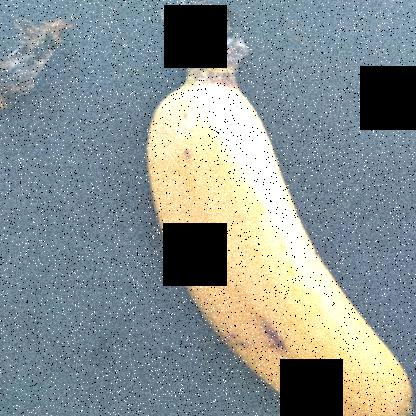freshripe: (137, 81, 416, 415)
